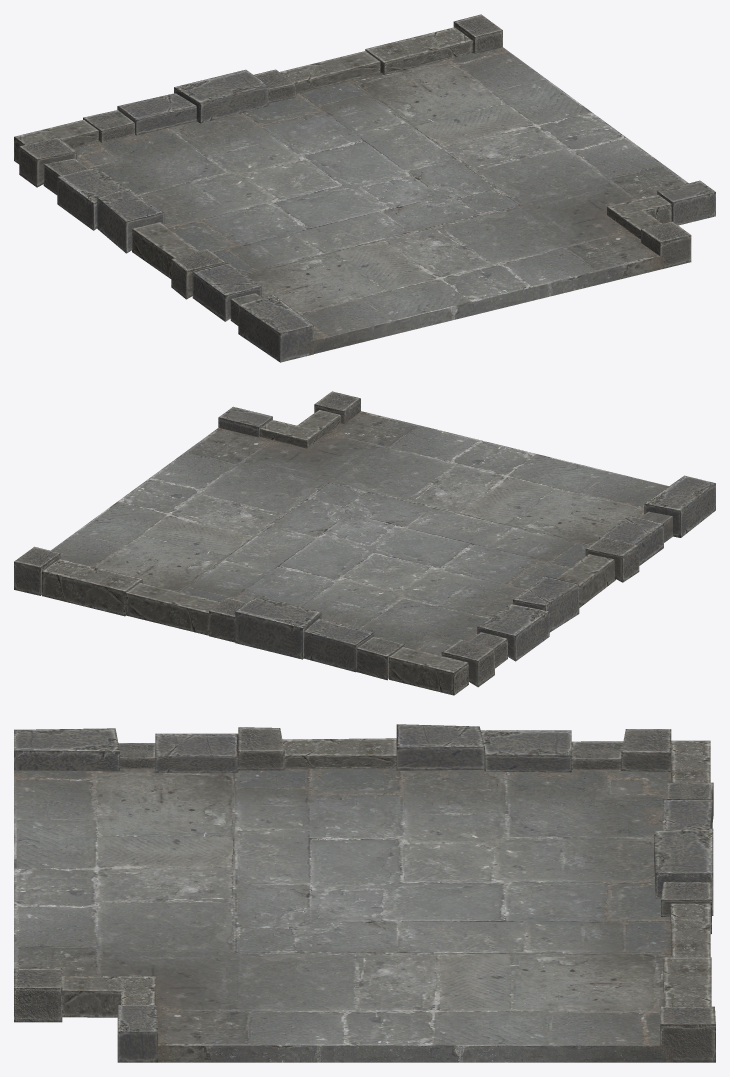
Rendered from bg_lut_lucastle_street01_sm_phs.FBX.
3 views of the same model, one above another, from view 1: azimuth 30°, elevation 25°; view 2: azimuth 150°, elevation 25°; view 3: azimuth 270°, elevation 25° (orthographic). The views are drawn at different scales.
Parts seen in each view (by area): view 1: bg_lut_lucastle_street01_sm_phs; view 2: bg_lut_lucastle_street01_sm_phs; view 3: bg_lut_lucastle_street01_sm_phs.
Boxes of the visible parts, left/top/right/bottom form: bg_lut_lucastle_street01_sm_phs: left=14, top=14, right=715, bottom=362; bg_lut_lucastle_street01_sm_phs: left=14, top=391, right=715, bottom=695; bg_lut_lucastle_street01_sm_phs: left=14, top=724, right=715, bottom=1062.
Size of the model in its own units: 457 by 31.1 by 452.
